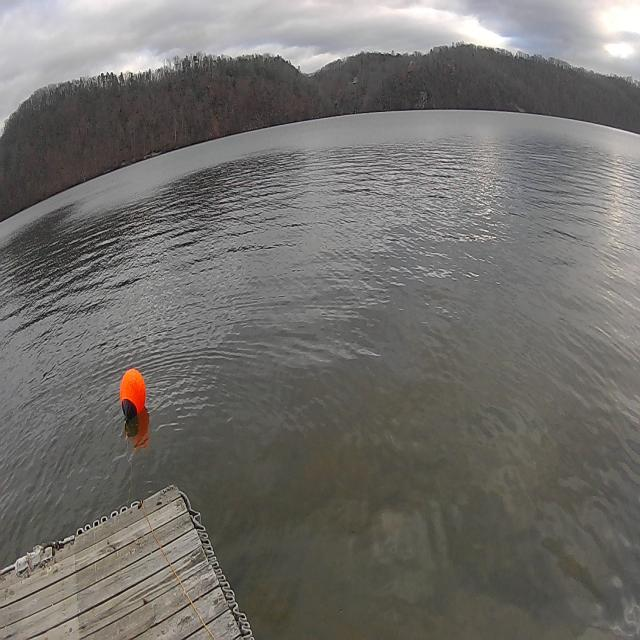Buoy: (118, 367, 147, 419)
